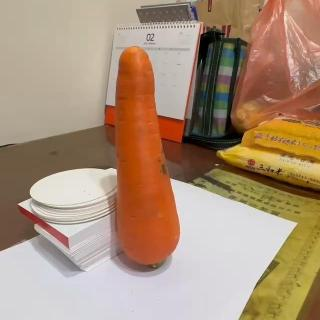carrot: (115, 46, 182, 272)
